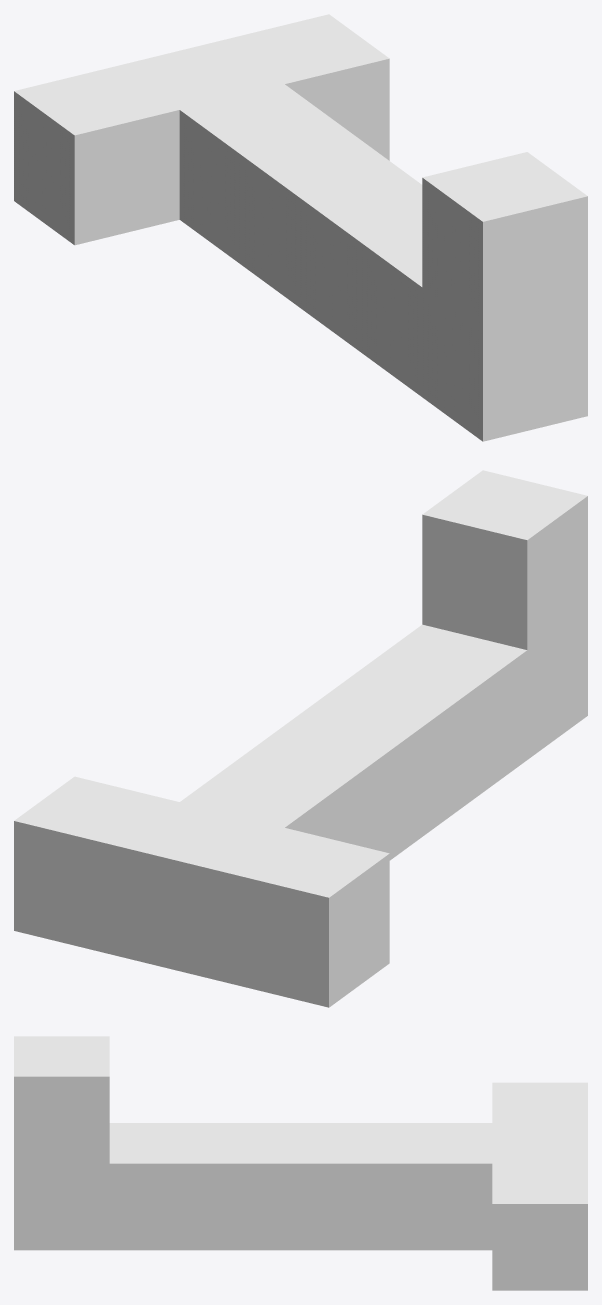
Rendered from product_hanger.gltf.
3 renders of one model, top to bottom at view 1: azimuth 30°, elevation 25°; view 2: azimuth 150°, elevation 25°; view 3: azimuth 270°, elevation 25°, orthographic. The views are drawn at different scales.
Parts seen in each view (by area): view 1: Layer.1; view 2: Layer.1; view 3: Layer.1.
Boxes of the visible parts, <box> form: Layer.1: <box>14,14,587,441</box>; Layer.1: <box>14,470,587,1007</box>; Layer.1: <box>14,1036,587,1290</box>.
Bounding box in the file's own units: 3 × 2 × 6.
1 material, 1 textured.
